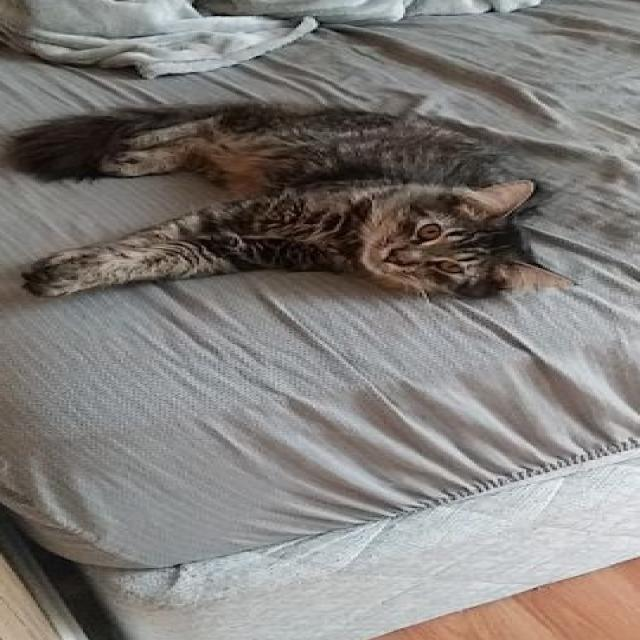Maine Coon: (6, 98, 582, 302)
